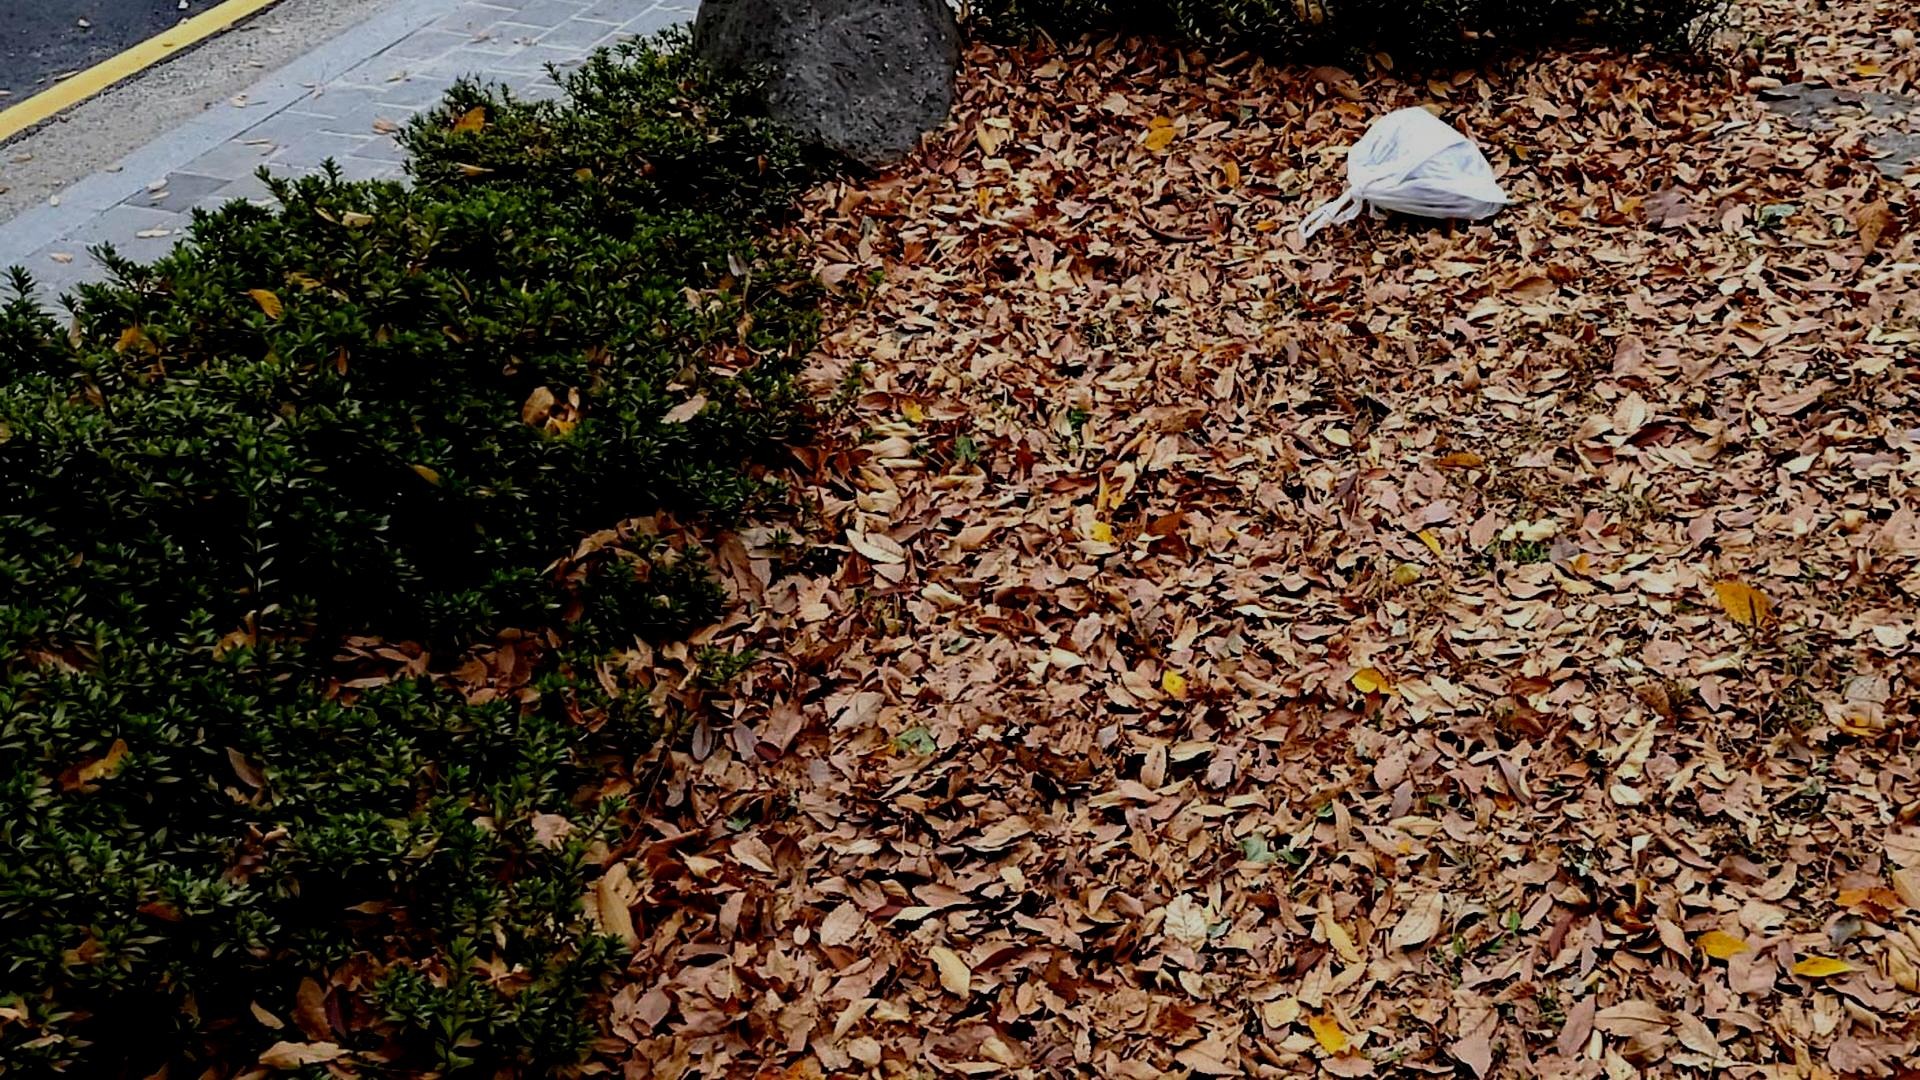white_bag: (1273, 95, 1526, 258)
